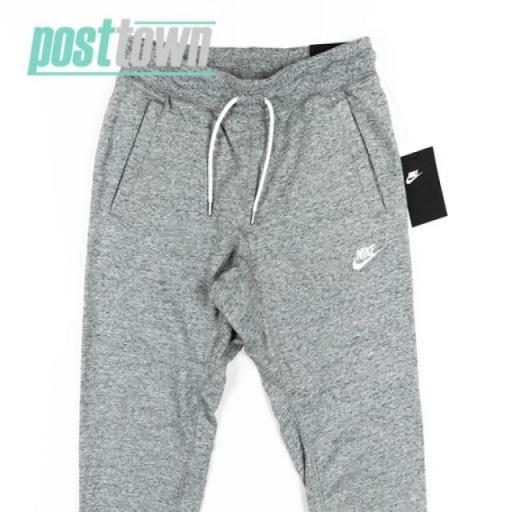Nike: (352, 250, 382, 273), (357, 243, 376, 261)
